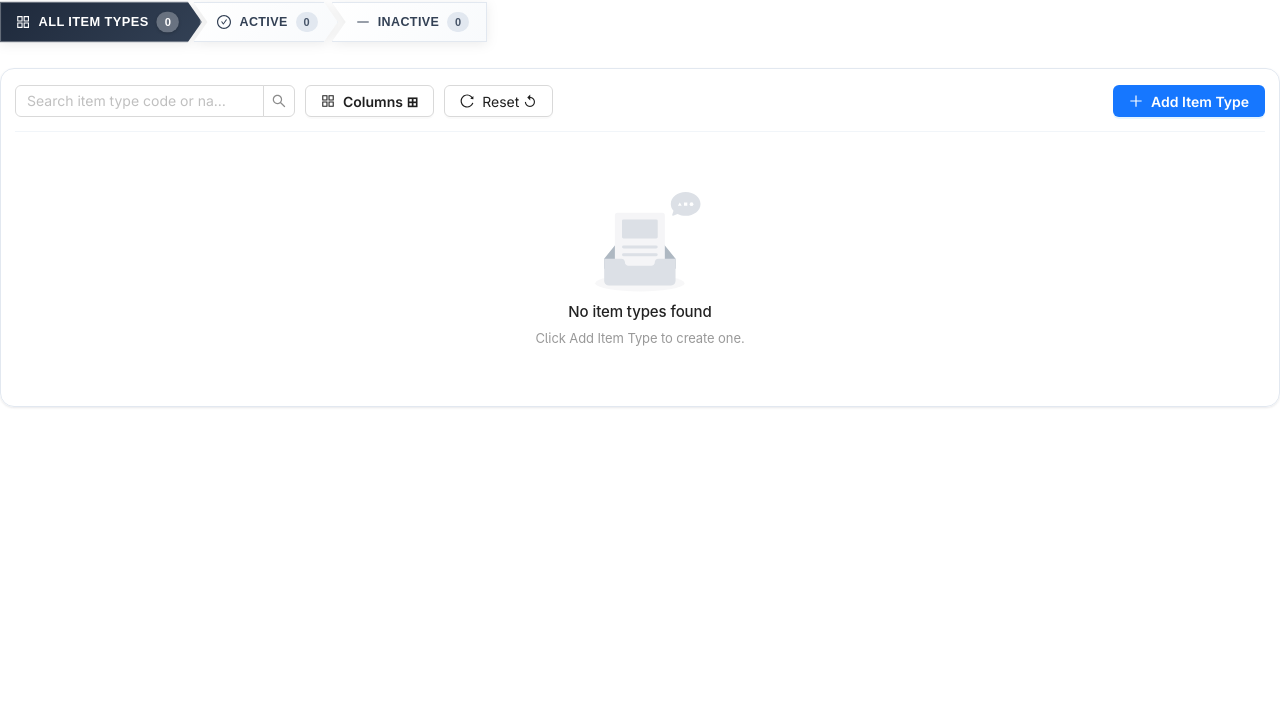
ItemTypeManagement save flow › create: footer [Cancel][Save] (no OK), sends companyId, success shows the backend Code
The image size is (1280, 720).
Click the button "Add Item Type". click: (1189, 101)
box: [1113,85,1265,117]
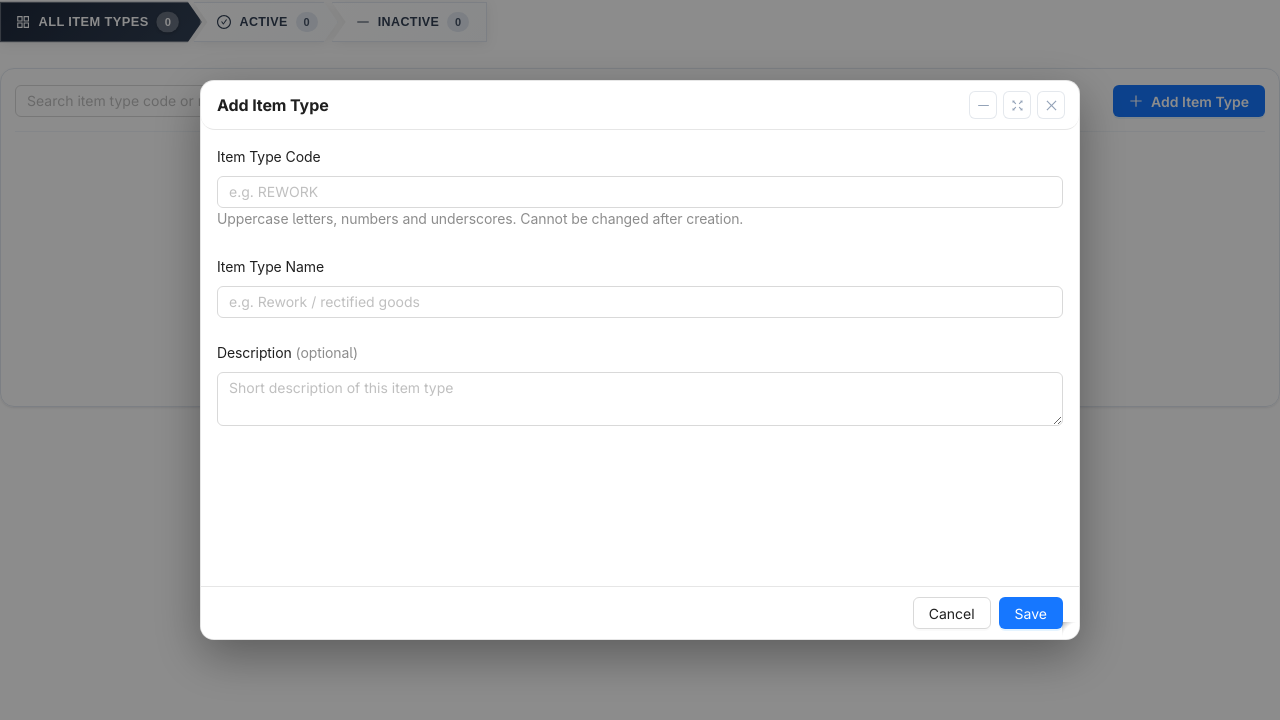
Check: the dialog is shown, box [200,80,1080,640]
Type "REWORK" into the field labelled "Item Type Code". click: (640, 192)
box: [217,176,1063,208]
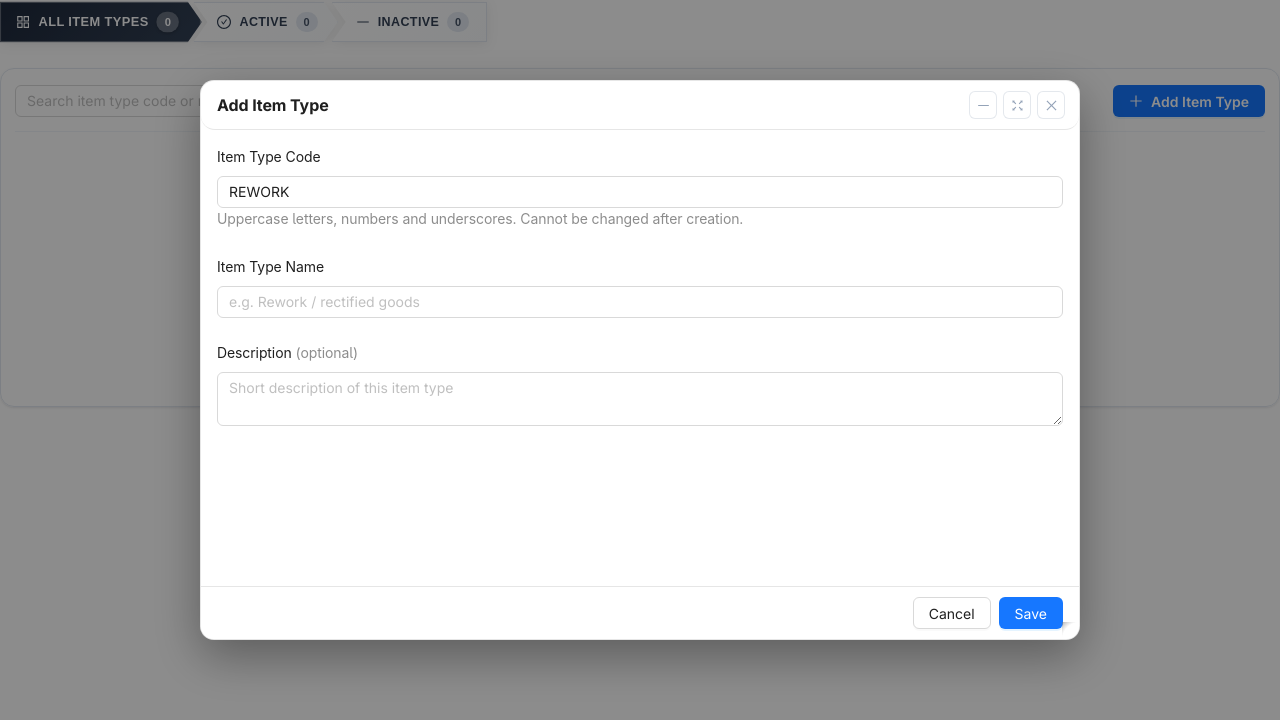
Type "Rework / rectified goods" into the field labelled "Item Type Name". click: (640, 302)
box: [217,286,1063,318]
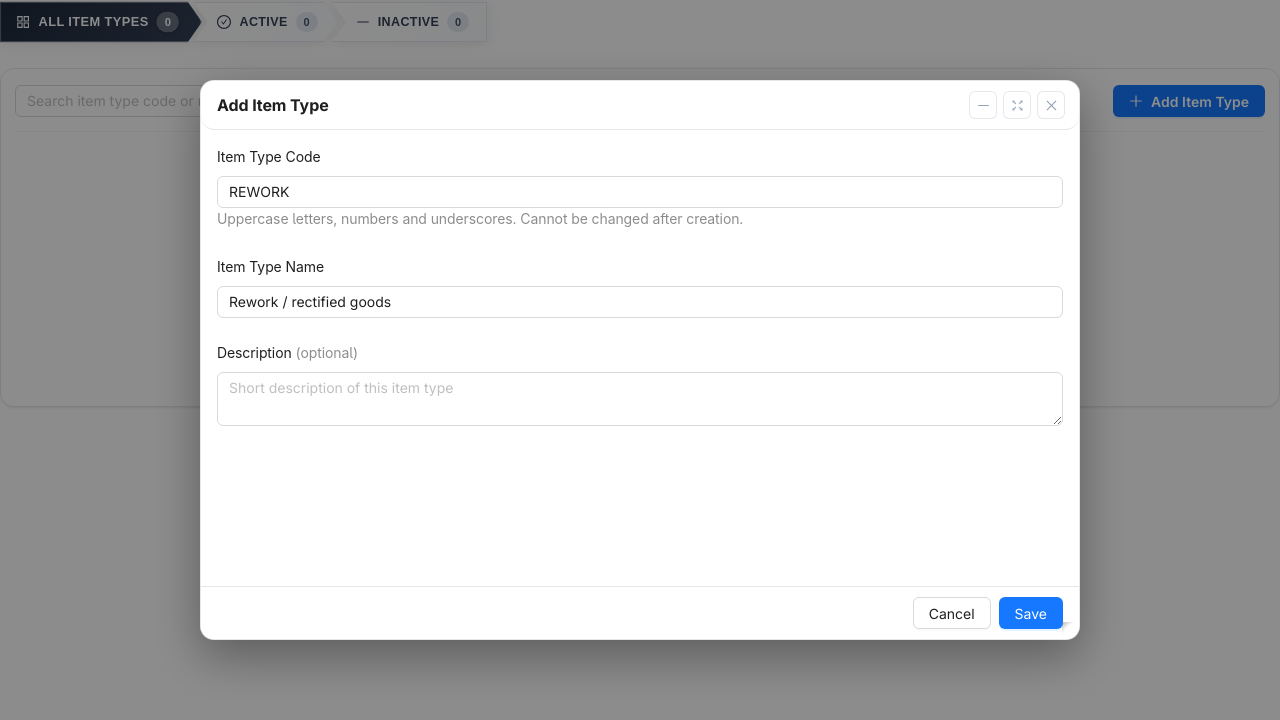
Click the button "Save". click: (1031, 613)
box: [999,597,1063,629]
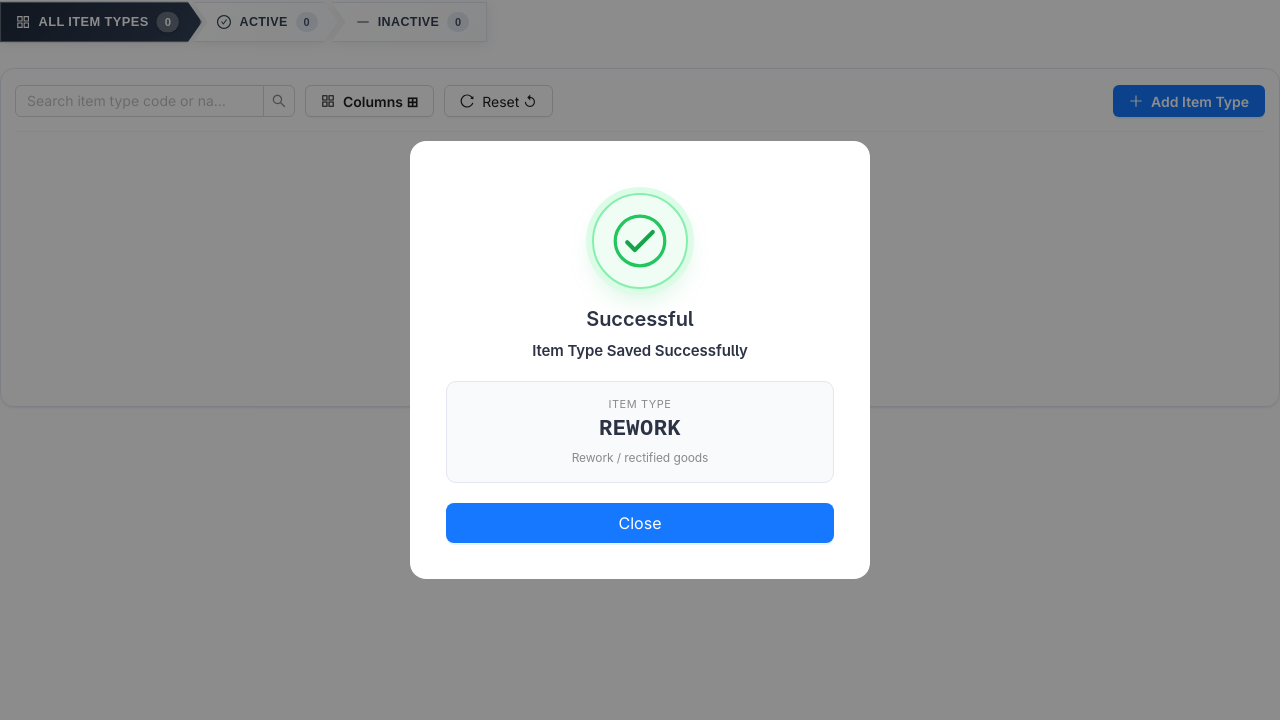
Check: the heading "Successful" is shown, box [586,307,694,331]
Check: the text "Item Type Saved Successfully" is shown, box [532,341,748,360]
Check: the text "REWORK" is shown, box [599,417,681,442]
